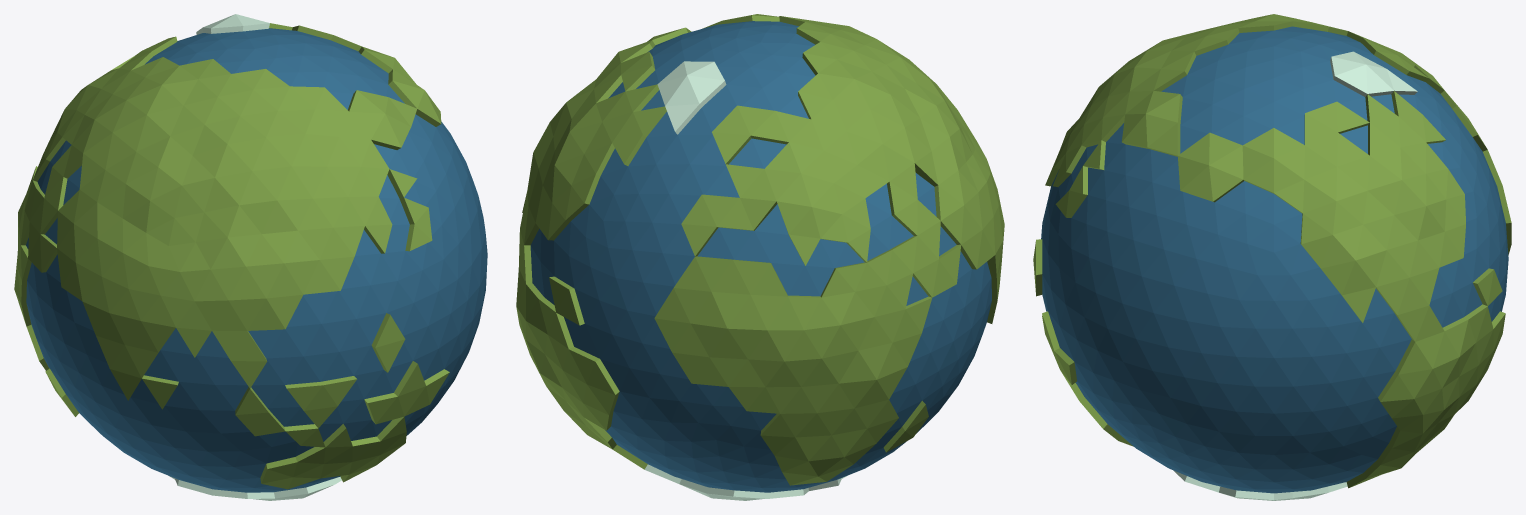
File: monde.glb
The picture shows the model from 3 angles, left to right: view 1: azimuth 30°, elevation 25°; view 2: azimuth 150°, elevation 25°; view 3: azimuth 270°, elevation 25°; orthographic projection.
Parts seen in each view (by area): view 1: URF-Height; view 2: URF-Height; view 3: URF-Height.
Boxes of the visible parts, x1,y1,x2,y2 form: URF-Height: [14, 14, 487, 500]; URF-Height: [516, 14, 1004, 500]; URF-Height: [1033, 14, 1511, 500].
Bounding box in the file's own units: 4.6 × 4.71 × 4.67.
